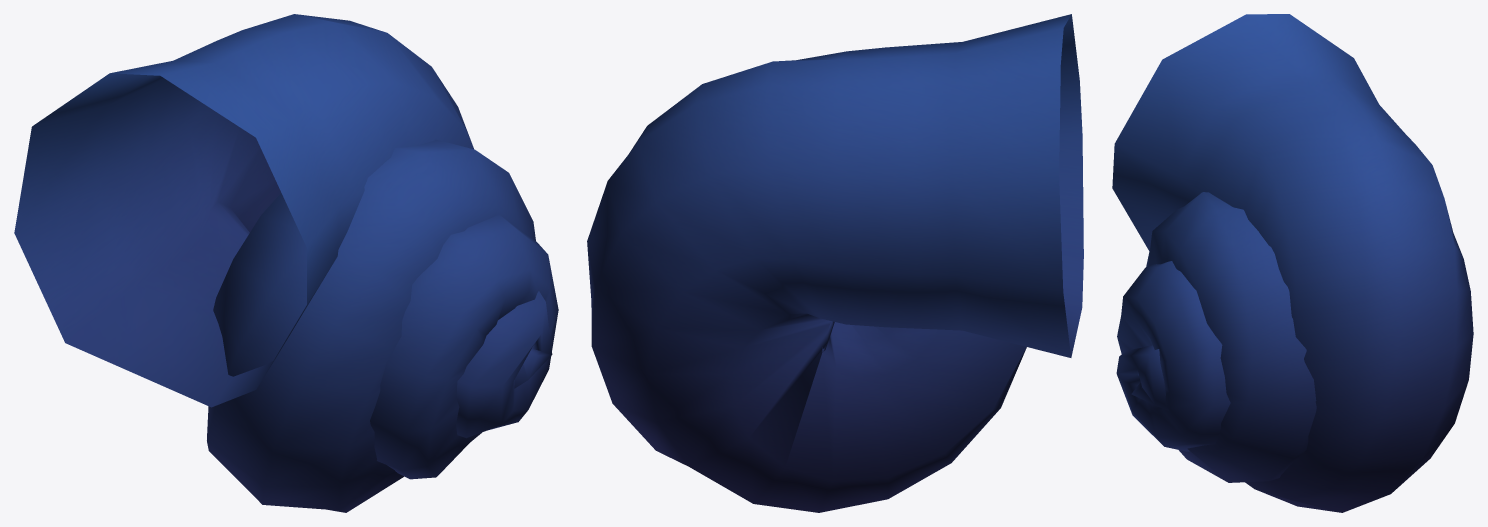
File: MS_Shell.fbx
3 views of the same model, side by side, from view 1: azimuth 30°, elevation 25°; view 2: azimuth 150°, elevation 25°; view 3: azimuth 270°, elevation 25° (orthographic). The views are drawn at different scales.
Visible parts, largest first — view 1: Cylinder001; view 2: Cylinder001; view 3: Cylinder001.
Part boxes in pixels (x1,y1,x2,y2): Cylinder001: [14, 14, 558, 512]; Cylinder001: [587, 14, 1083, 512]; Cylinder001: [1112, 14, 1473, 512].
Size of the model in its own units: 280 by 287 by 234.
